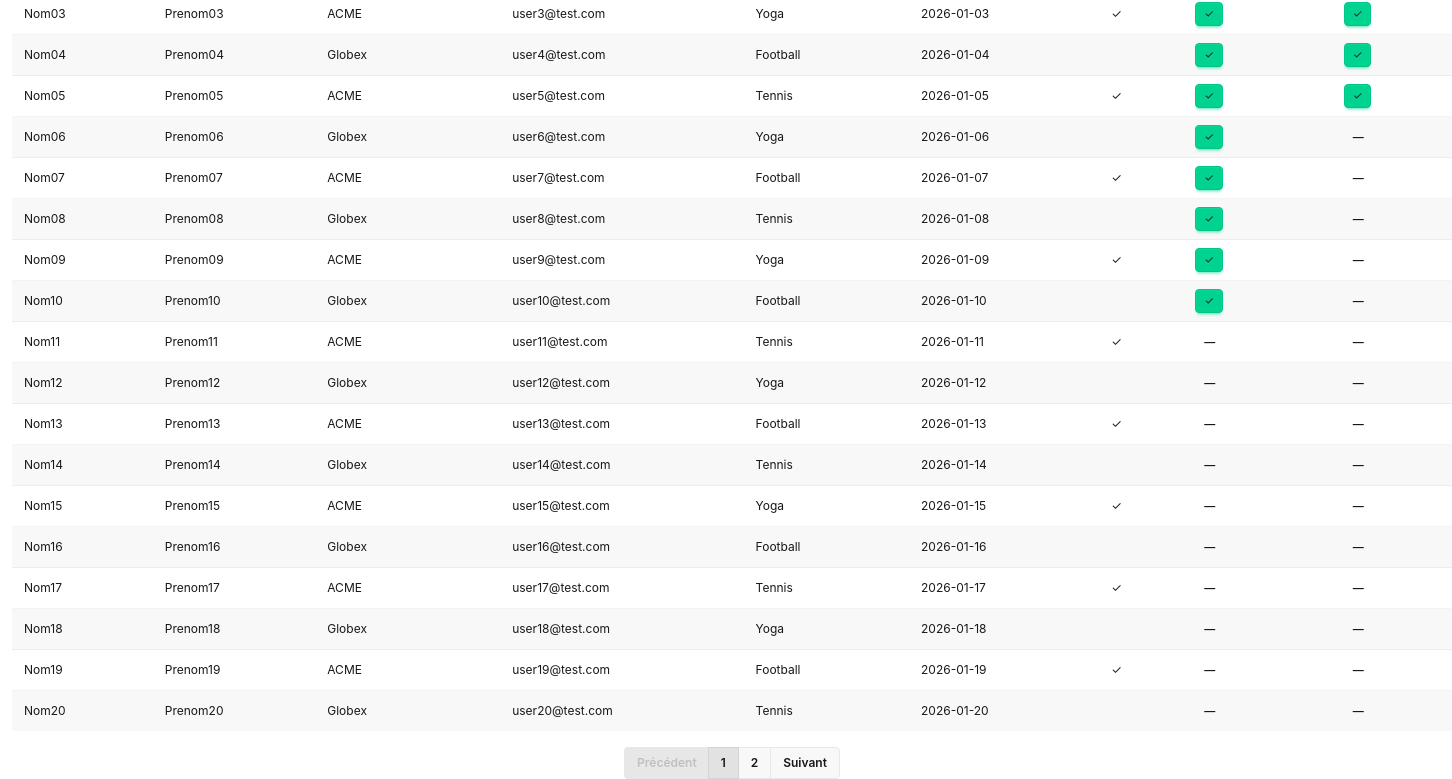
Scenario: MemberTable › paginates with 20 per page
(page scrolled)
Expected: the text "Nom21" is not shown
Click the button "Suivant" at (805, 763), box [770,747,840,778]
(page scrolled)
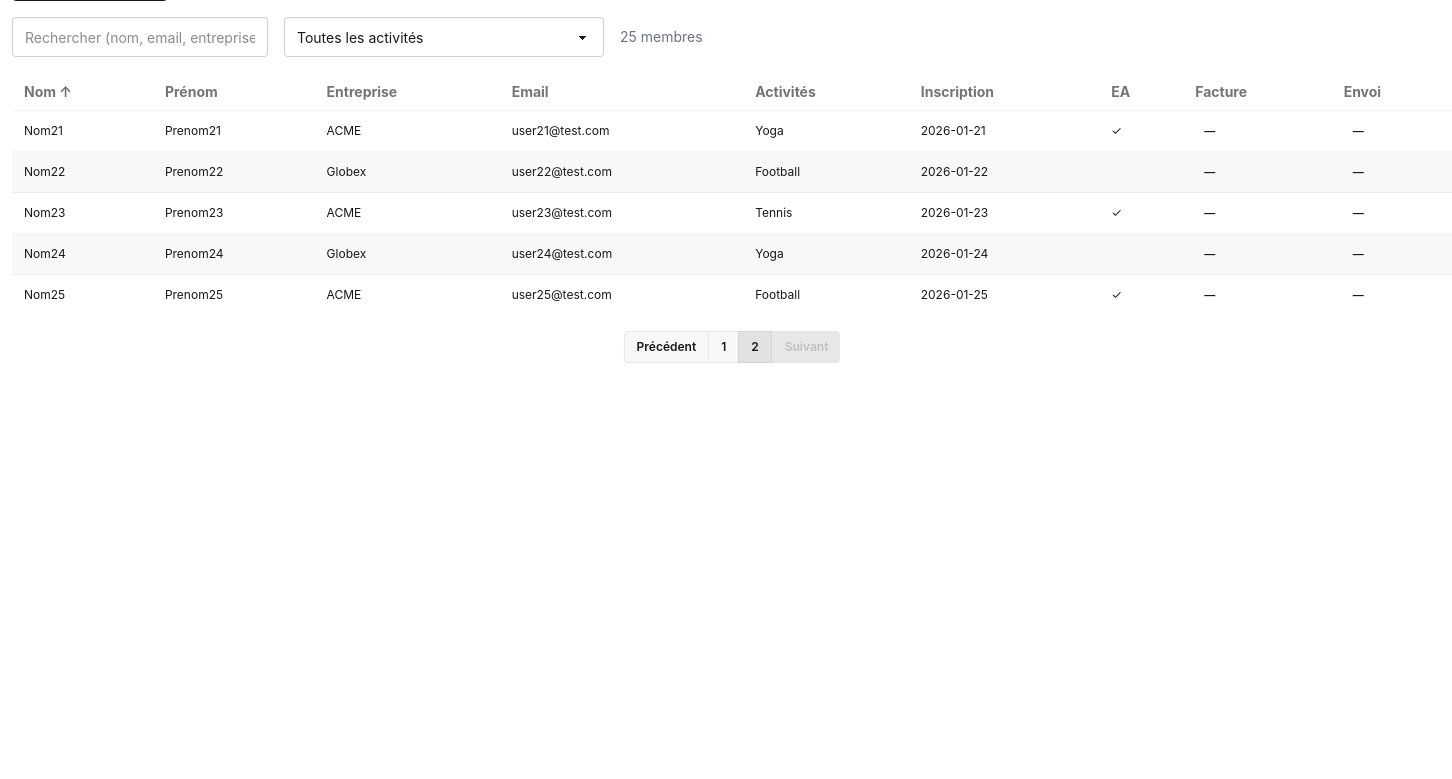
Expected: the text "Nom21" is shown, [12,111,153,152]
